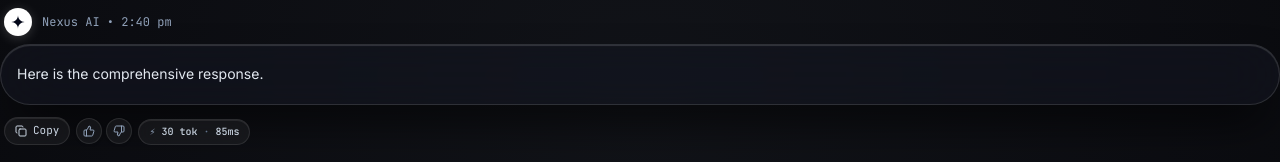
Test: MessageBubble Markdown & Feature Rendering › renders copy button on assistant message and copies full response content
Step 1. Click the button with aria-label "copy message" → (37, 131), box [4,117,70,145]
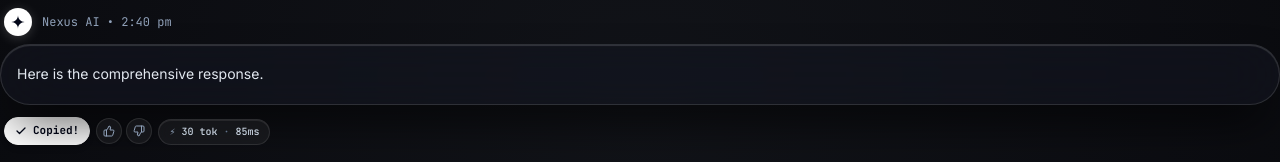
Expected: the button with aria-label "copy message" reads "Copied!", [4,117,90,145]
